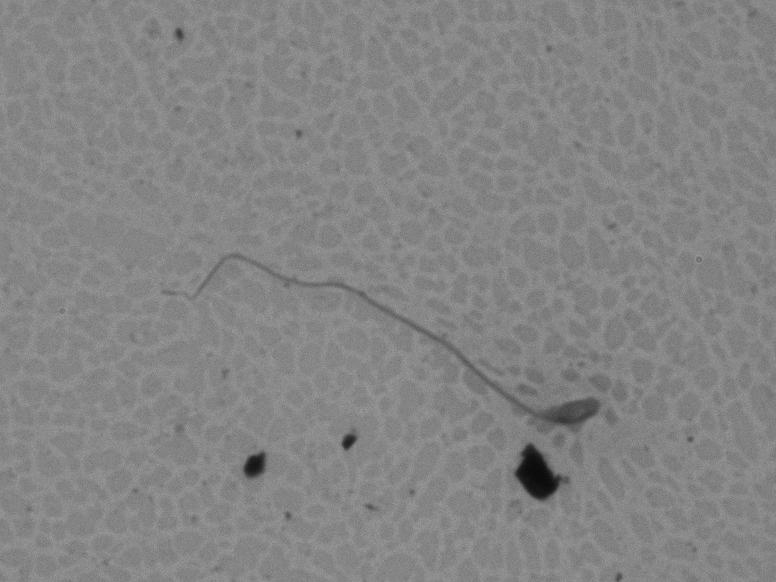Abnormal: (148, 218, 643, 438)
